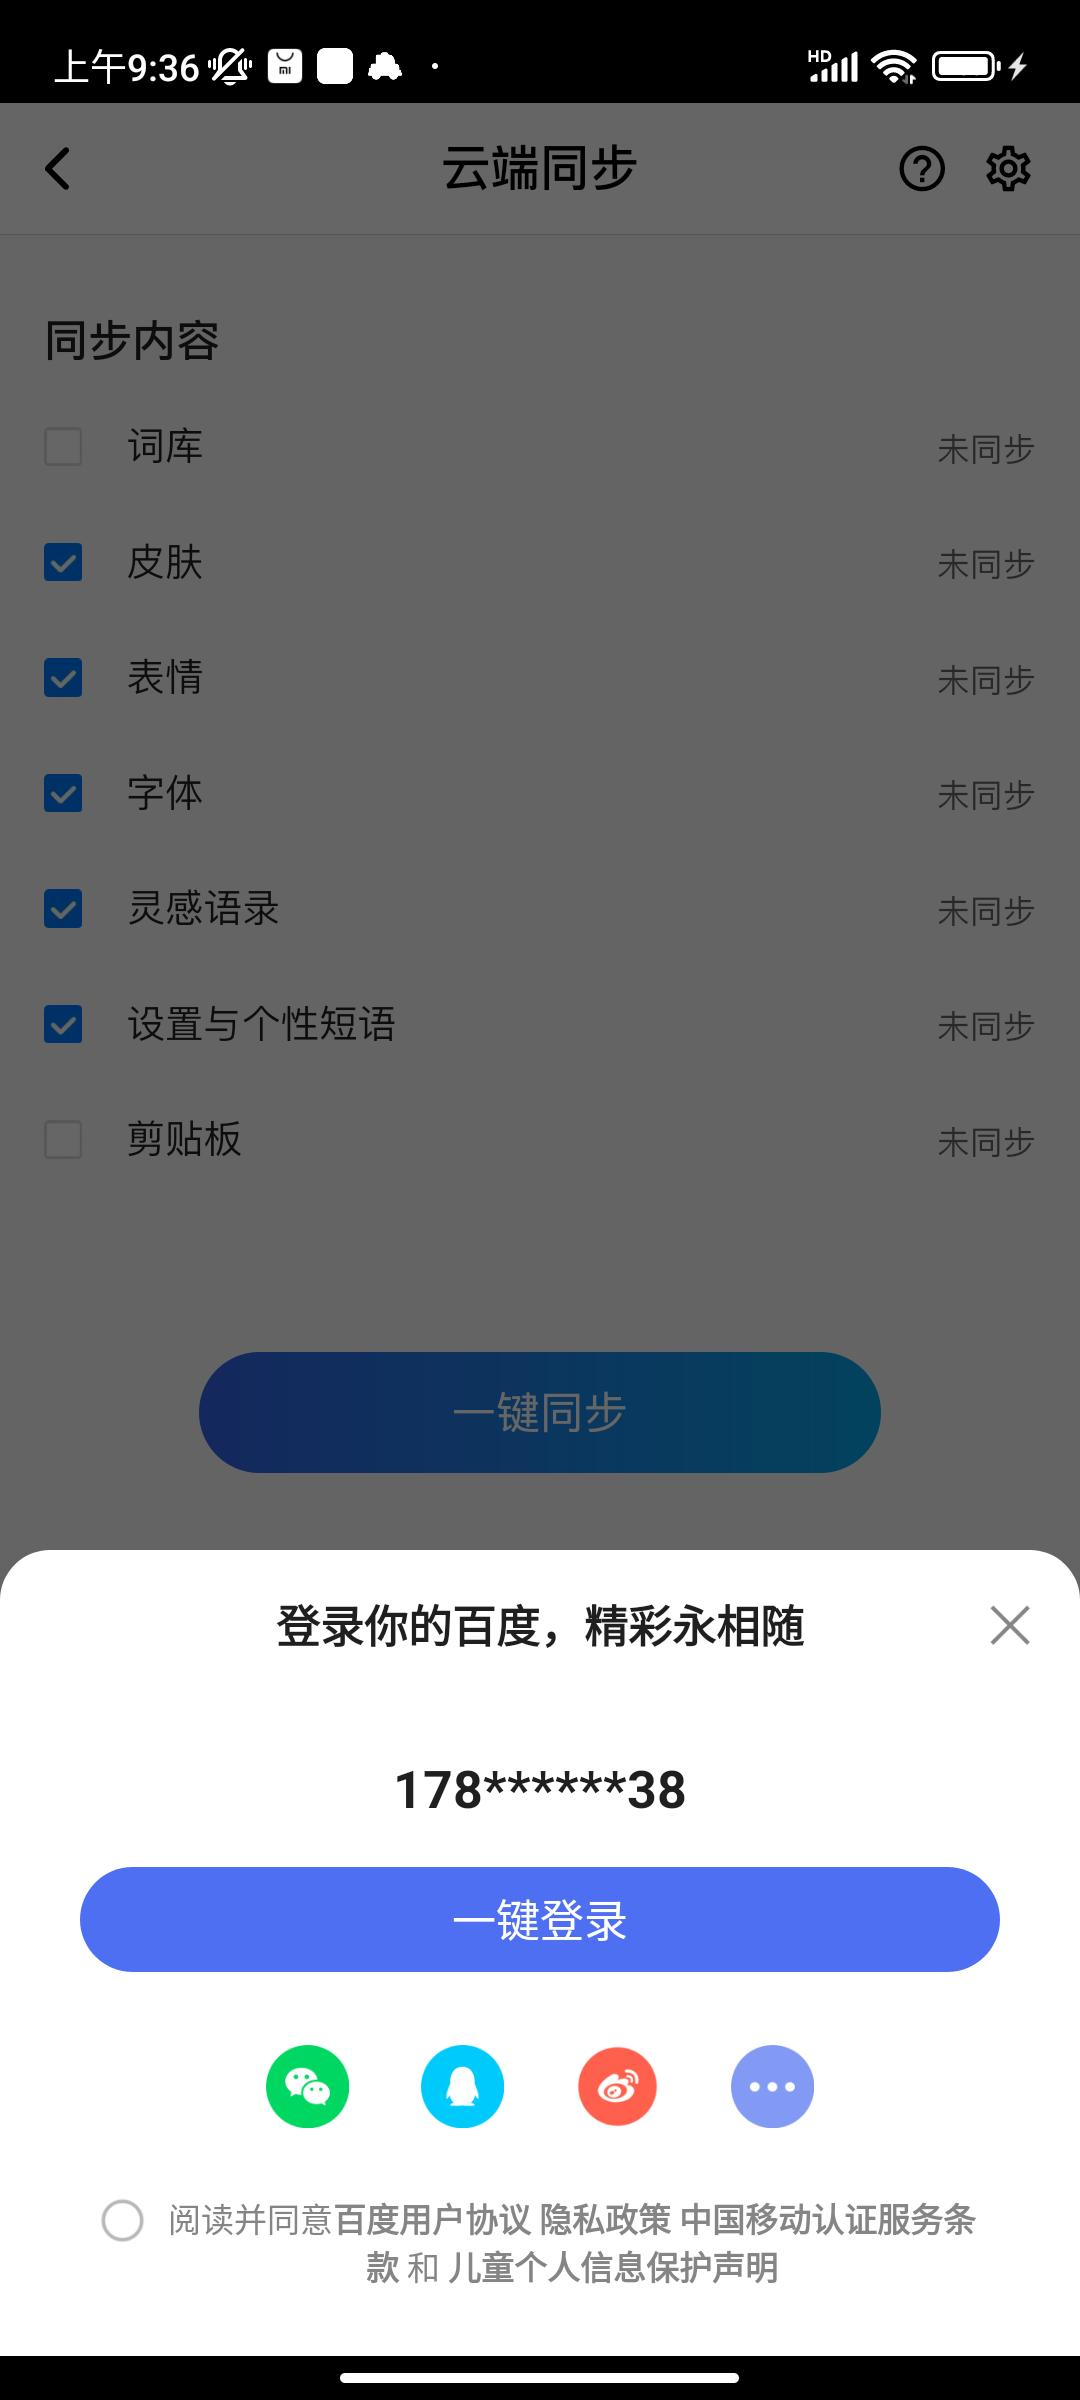ui_group: (2, 1547, 1080, 2359)
